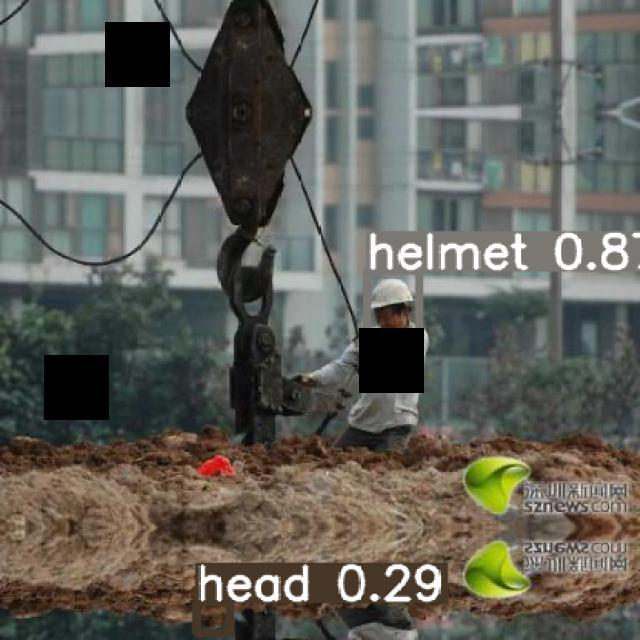white helmet: (359, 266, 434, 318)
